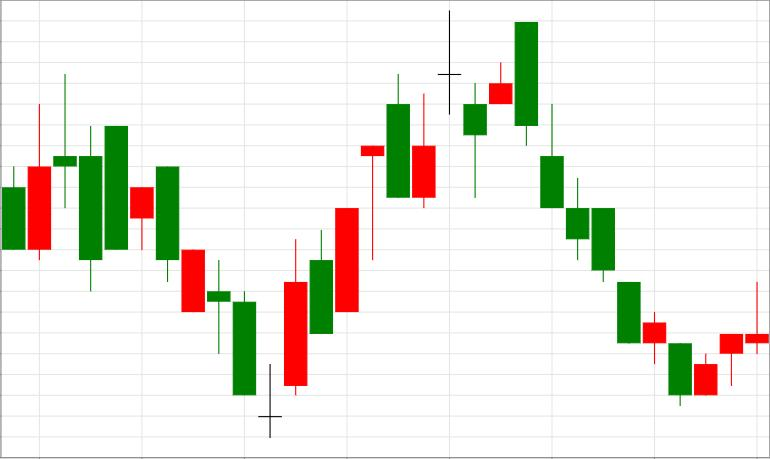morning_star_rise: (157, 166, 307, 437)
